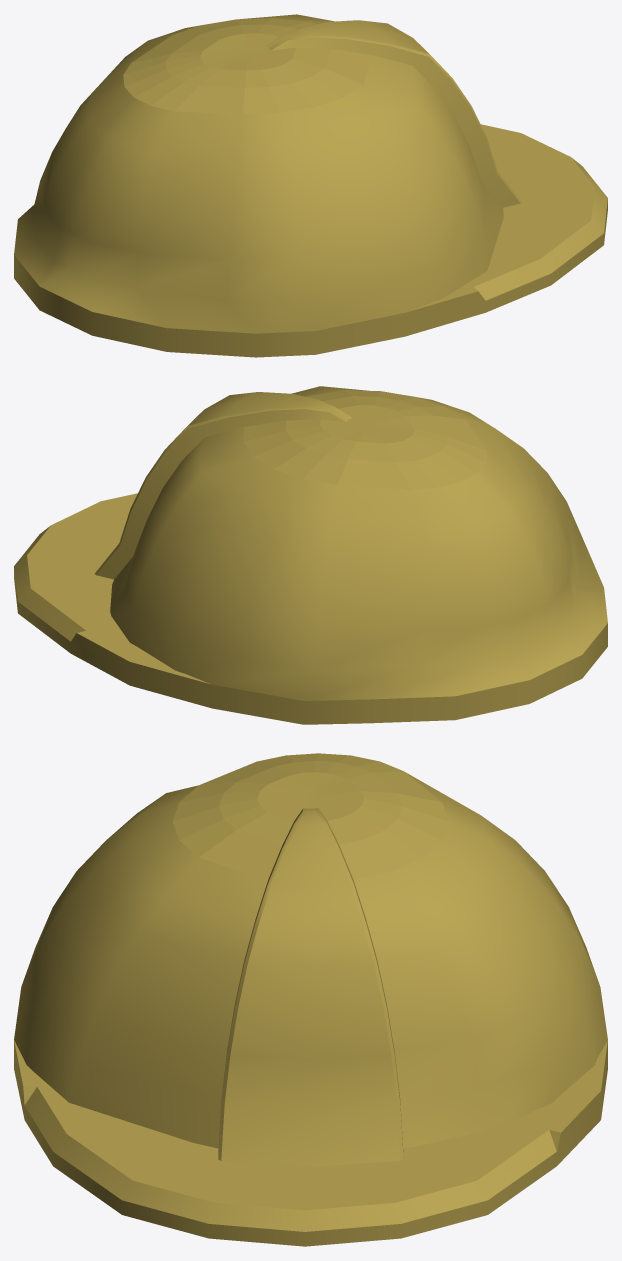
Rendered from kmurphy_construction_hat.fbx.
3 views of the same model, one above another, from view 1: azimuth 30°, elevation 25°; view 2: azimuth 150°, elevation 25°; view 3: azimuth 270°, elevation 25° (orthographic). The views are drawn at different scales.
Parts seen in each view (by area): view 1: pSphere2; view 2: pSphere2; view 3: pSphere2.
Part boxes in pixels (bbox=[...]): pSphere2: bbox=[14, 14, 607, 357]; pSphere2: bbox=[14, 386, 607, 724]; pSphere2: bbox=[14, 753, 607, 1246].
Bounding box in the file's own units: 0.3593 × 0.1336 × 0.2768.
